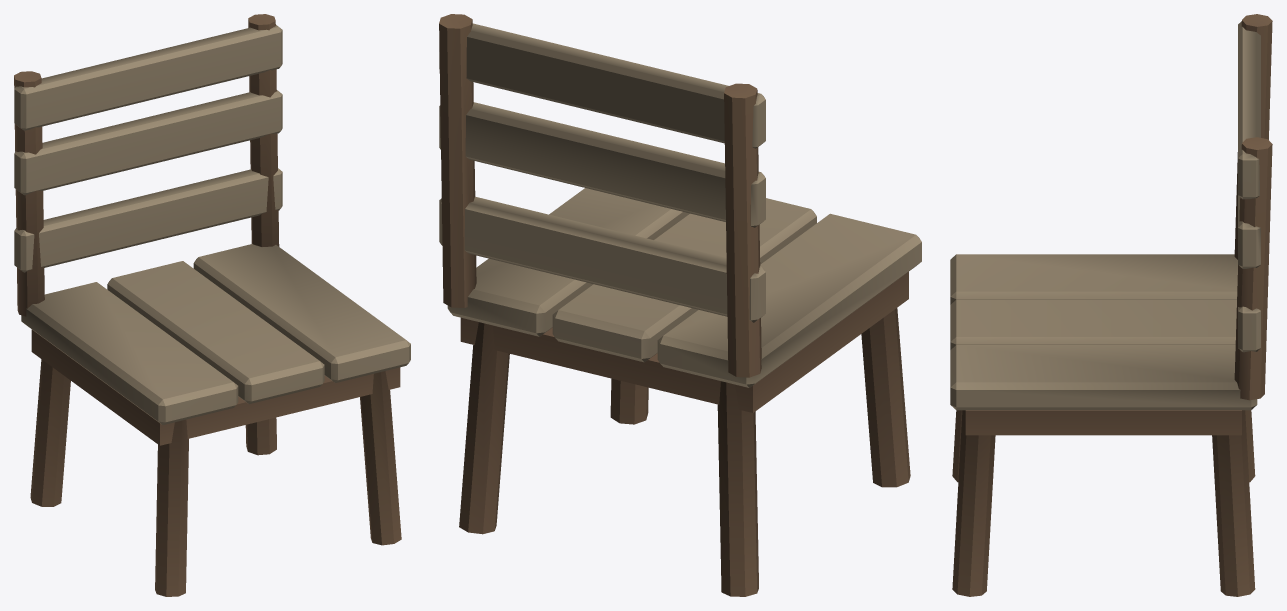
The model's file is chair.glb.
The picture shows the model from 3 angles, left to right: view 1: azimuth 30°, elevation 25°; view 2: azimuth 150°, elevation 25°; view 3: azimuth 270°, elevation 25°; orthographic projection. The views are drawn at different scales.
Parts seen in each view (by area): view 1: chair; view 2: chair; view 3: chair.
Boxes of the visible parts, x1,y1,x2,y2 form: chair: (14, 14, 410, 596); chair: (439, 14, 921, 596); chair: (950, 14, 1272, 596).
Size of the model in its own units: 0.85 by 1.3 by 0.84.
